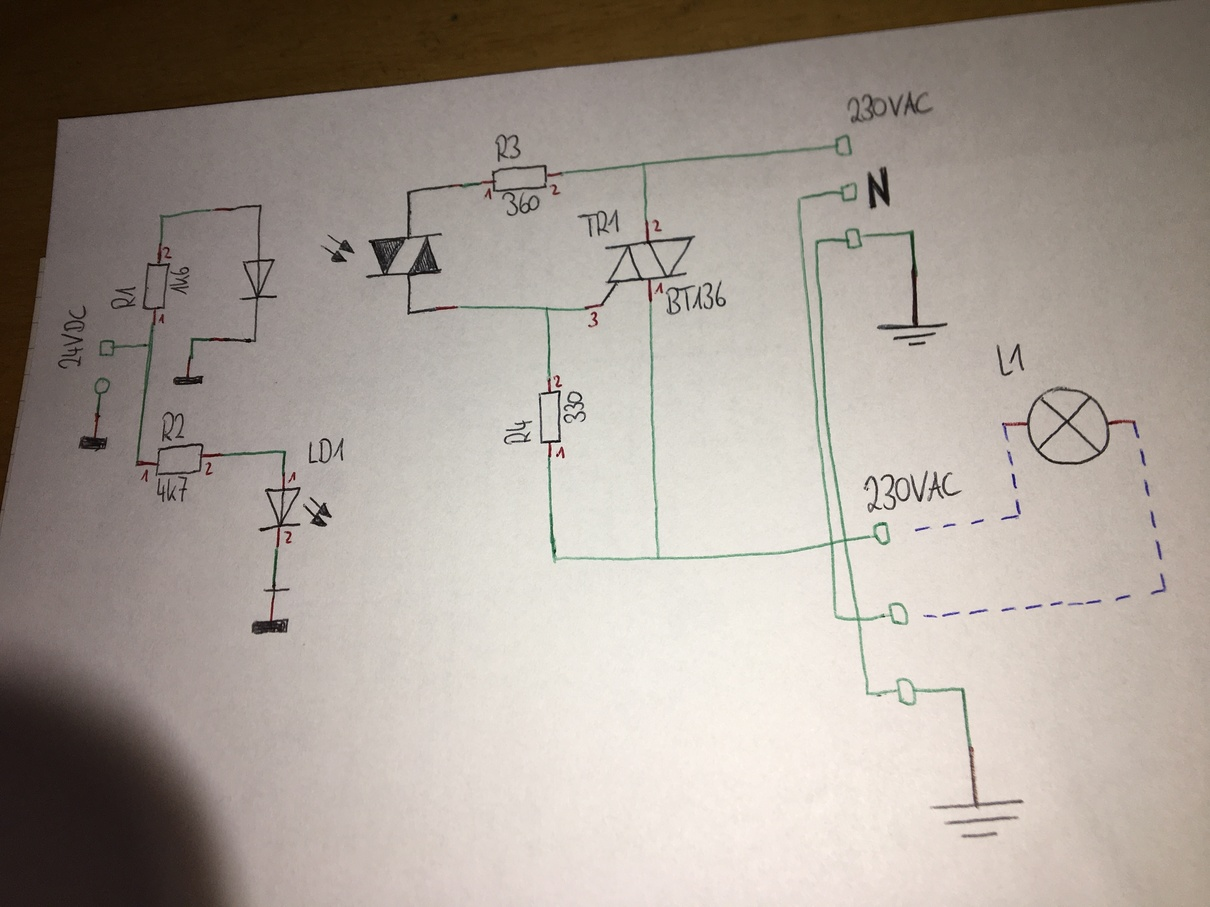crossover: (852, 612, 866, 627), (839, 534, 851, 545), (827, 537, 837, 549)
diode.light_emitting: (257, 486, 334, 533)
gnd: (925, 794, 1029, 844), (874, 317, 955, 350), (249, 613, 292, 640), (76, 430, 111, 456), (171, 370, 206, 390)
junction: (905, 224, 919, 239), (1127, 414, 1142, 427), (830, 609, 843, 624), (793, 193, 807, 206), (1012, 509, 1026, 522), (998, 418, 1012, 431), (549, 553, 562, 566), (402, 307, 415, 320), (652, 552, 666, 564), (144, 339, 156, 352), (956, 684, 969, 696), (187, 333, 199, 345), (1159, 584, 1171, 596), (637, 159, 650, 170), (132, 457, 143, 469), (156, 211, 167, 222), (250, 335, 261, 346), (812, 237, 823, 248), (403, 187, 414, 198), (279, 447, 290, 457), (862, 688, 873, 698), (542, 304, 553, 314), (255, 201, 265, 211), (598, 299, 607, 309)
lamp: (1024, 384, 1112, 467)
optocoupler: (237, 230, 445, 302)
resistor: (490, 163, 551, 193), (154, 441, 204, 477), (537, 388, 563, 446), (141, 261, 170, 311)
terminal: (833, 132, 855, 159), (838, 180, 860, 204), (97, 338, 117, 359), (92, 375, 112, 396)
text: (862, 469, 964, 514), (845, 88, 936, 126), (665, 279, 728, 316), (56, 303, 88, 372), (864, 163, 895, 211), (576, 206, 621, 239), (994, 340, 1028, 378), (306, 435, 347, 466), (500, 190, 542, 218), (154, 474, 189, 505), (159, 409, 188, 443), (562, 388, 588, 425), (493, 132, 523, 164), (502, 418, 534, 447), (109, 284, 139, 311), (168, 264, 191, 297), (586, 310, 600, 329), (548, 182, 563, 198), (282, 529, 295, 546), (554, 445, 567, 461), (161, 245, 174, 261), (552, 372, 564, 389), (203, 460, 215, 477), (650, 218, 663, 233), (286, 470, 298, 486), (482, 186, 494, 202), (139, 467, 150, 484), (654, 281, 664, 296), (157, 311, 166, 326)
triac: (602, 234, 698, 293)
